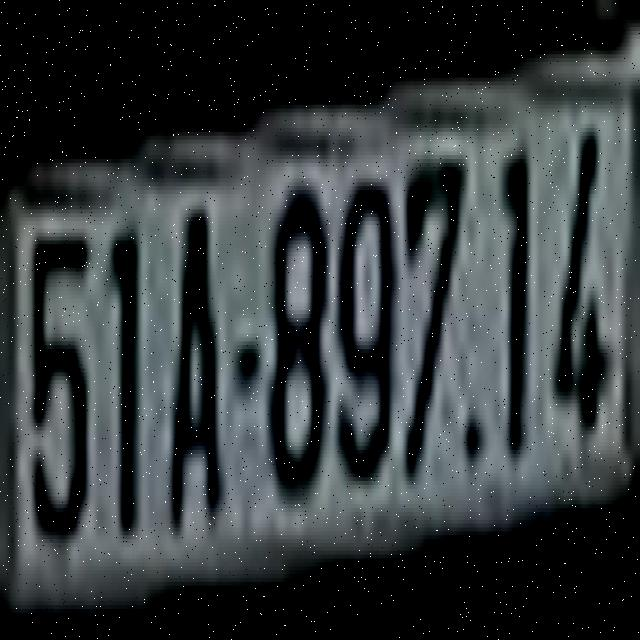1: (495, 124, 531, 469), (108, 210, 142, 539)
4: (552, 99, 610, 471)
5: (30, 211, 91, 549)
7: (402, 138, 468, 486)
8: (270, 171, 327, 508)
9: (337, 167, 392, 496)
A: (167, 186, 225, 535)
